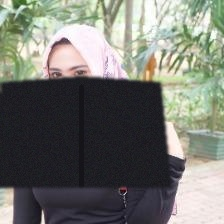Cadar_Niqab: (0, 21, 172, 187)
